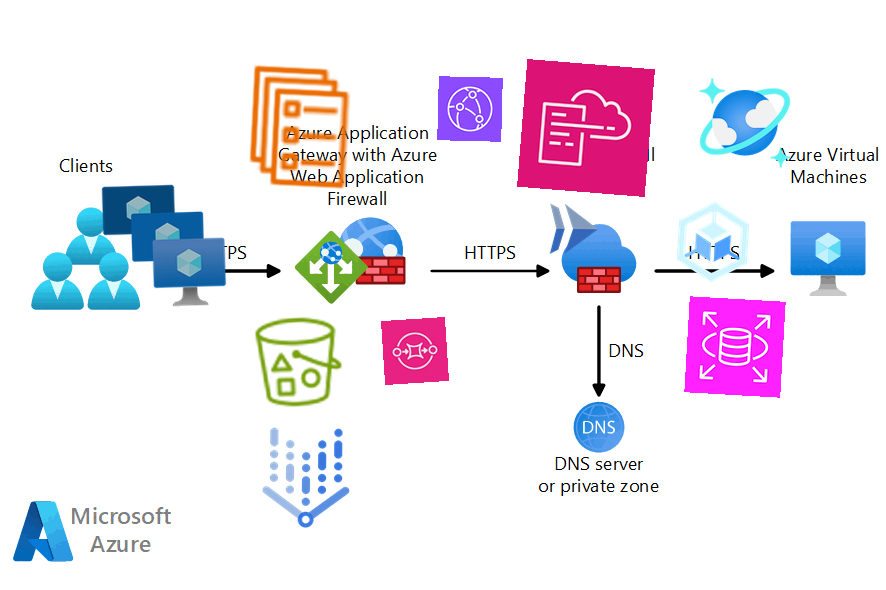aws_amazon_cloudfront: (437, 76, 503, 142)
aws_amazon_rds: (684, 296, 786, 398)
aws_amazon_simple_queue_service: (380, 316, 450, 386)
aws_cloudformation: (517, 59, 655, 197)
aws_elastic_container_service_service: (232, 59, 368, 195)
aws_simple_storage_service_bucket_with_objects: (248, 311, 350, 413)
azure_cosmos_db: (696, 74, 794, 172)
azure_vm_scale_sets: (96, 177, 228, 309)
gcp_cloud_run: (540, 196, 606, 262)
gcp_google_kubernetes_engine: (662, 191, 764, 293)
gcp_vertex_ai: (241, 413, 371, 543)
